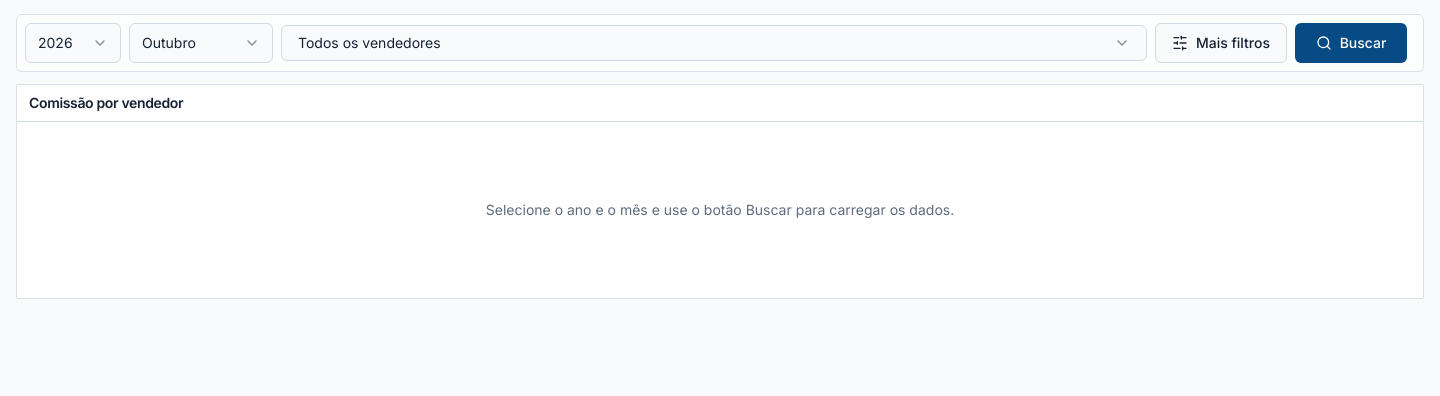
Scenario: ComissaoPage › usa o carregamento centralizado em vez de linhas skeleton
The image size is (1440, 396).
Step 1. Click the button "Buscar" → coordinates (1351, 43), box [1295, 23, 1407, 63]
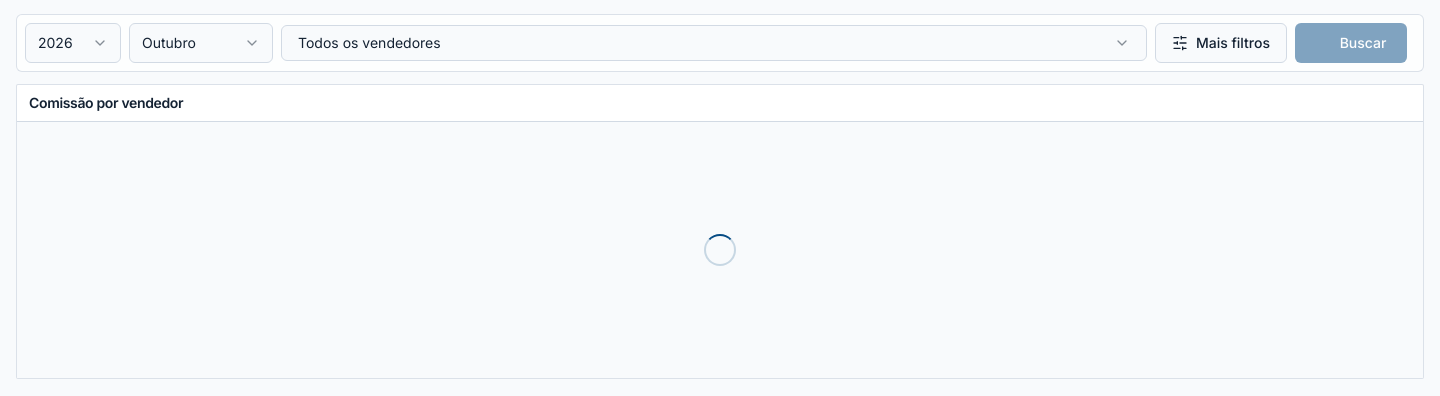
Expected: the message named "Carregando comissões" is shown
